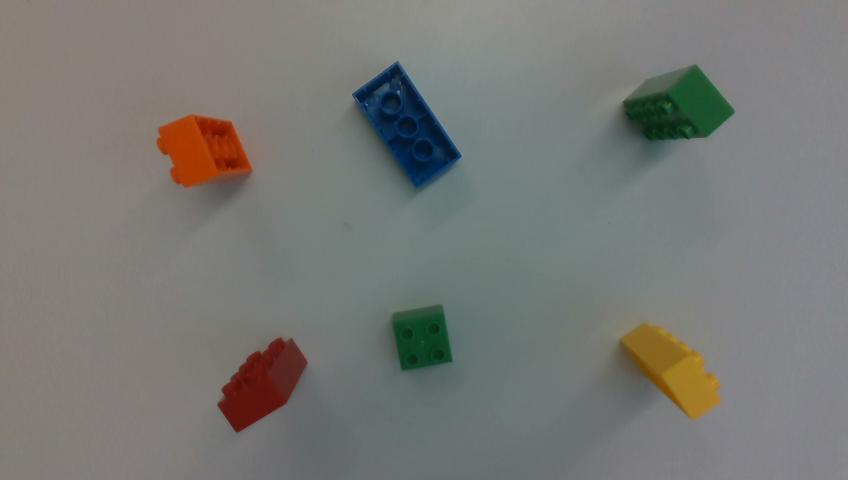2x2_green: (392, 305, 452, 370)
4x2_blue: (352, 62, 460, 188)
4x2_green: (624, 65, 734, 140)
4x2_orange: (157, 115, 251, 186)
4x2_red: (219, 338, 306, 431)
4x2_yellow: (622, 323, 719, 418)
